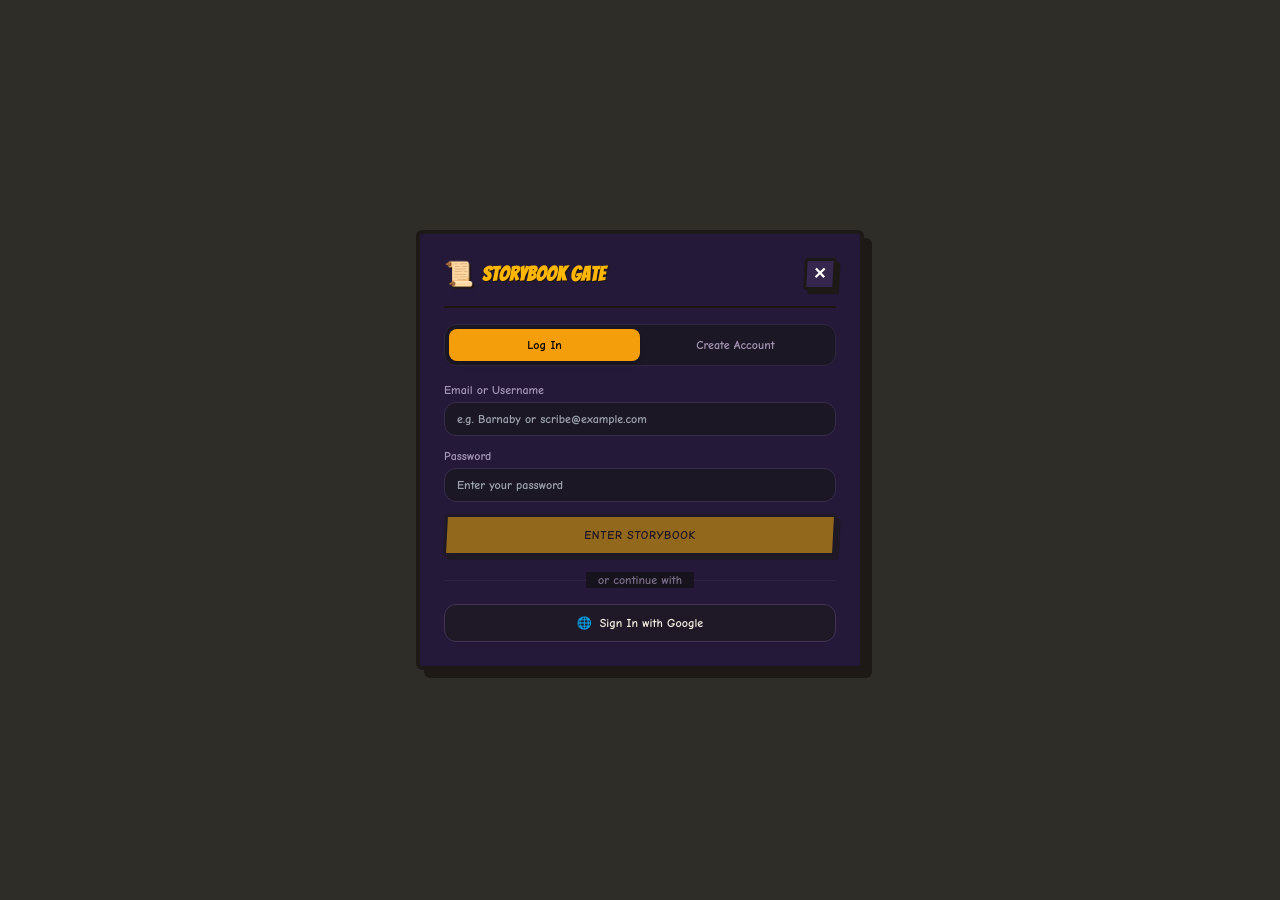
Scenario: AuthModal Component Tests › switches to create account (register) tab on click
Click the button "Create Account" at {"x": 736, "y": 345}, box top-left (640, 329), bottom-right (831, 361)
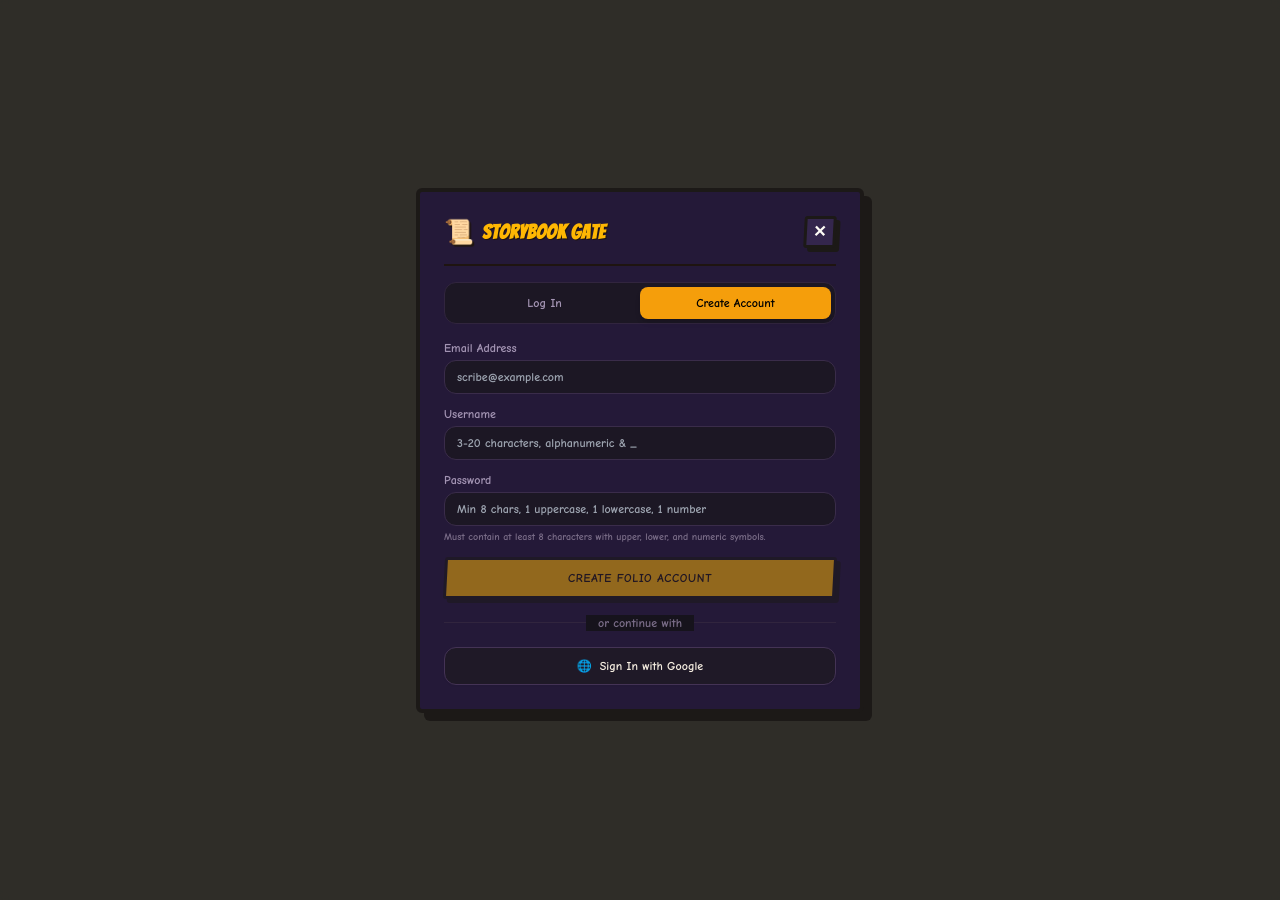
Now the field with placeholder "3-20 characters, alphanumeric & _" is shown, box top-left (444, 426), bottom-right (836, 460)
Now the password field with placeholder "Min 8 chars, 1 uppercase, 1 lowercase, 1 number" is shown, box top-left (444, 492), bottom-right (836, 526)
Now the button "Create Folio Account" is shown, box top-left (443, 556), bottom-right (837, 598)
